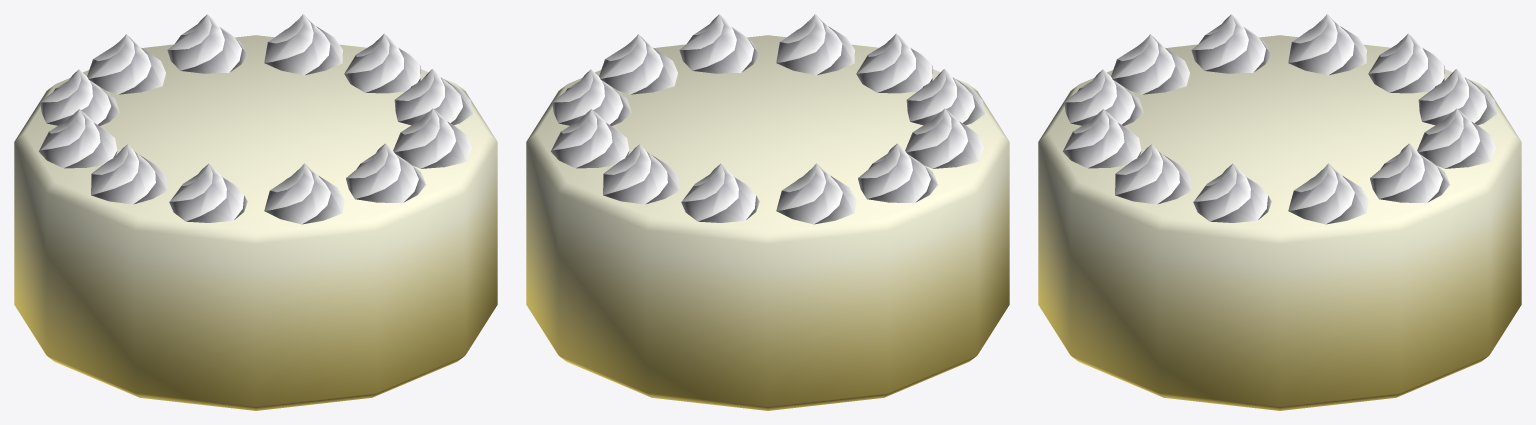
The model's file is m_RedVelvetCake01.fbx.
3 views of the same model, side by side, from view 1: azimuth 30°, elevation 25°; view 2: azimuth 150°, elevation 25°; view 3: azimuth 270°, elevation 25° (orthographic).
Parts seen in each view (by area): view 1: m_RedVelvetCake01; view 2: m_RedVelvetCake01; view 3: m_RedVelvetCake01.
Part boxes in pixels (x1,y1,x2,y2): m_RedVelvetCake01: (14,14,497,410); m_RedVelvetCake01: (526,14,1009,410); m_RedVelvetCake01: (1038,14,1521,410).
Size of the model in its own units: 28 by 14.32 by 28.
